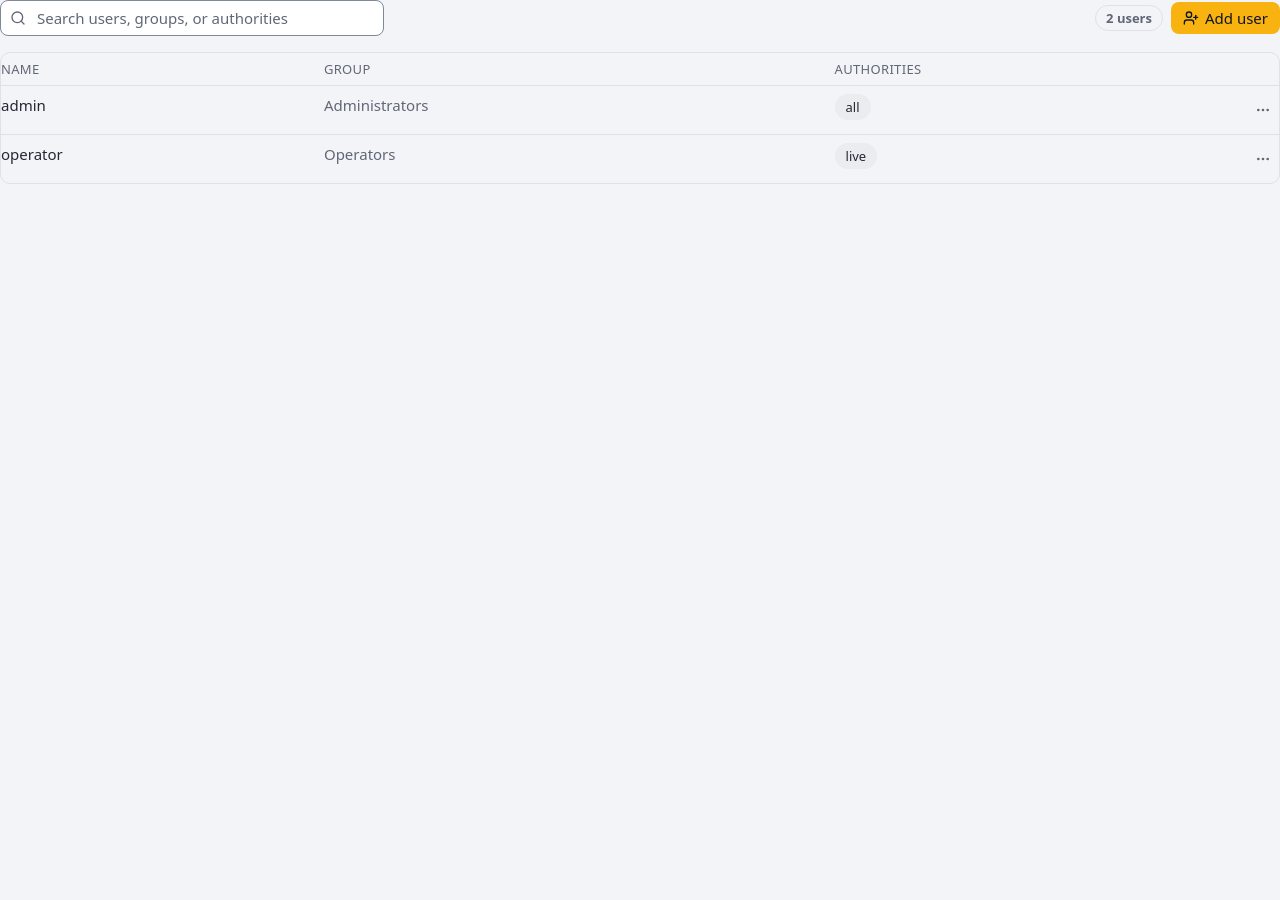
it: DeviceUserSection › previews then applies a per-user remove
Step 1. Press the mouse on the button named "actions: operator" → (1263, 159), box left=1247, top=143, right=1279, bottom=175
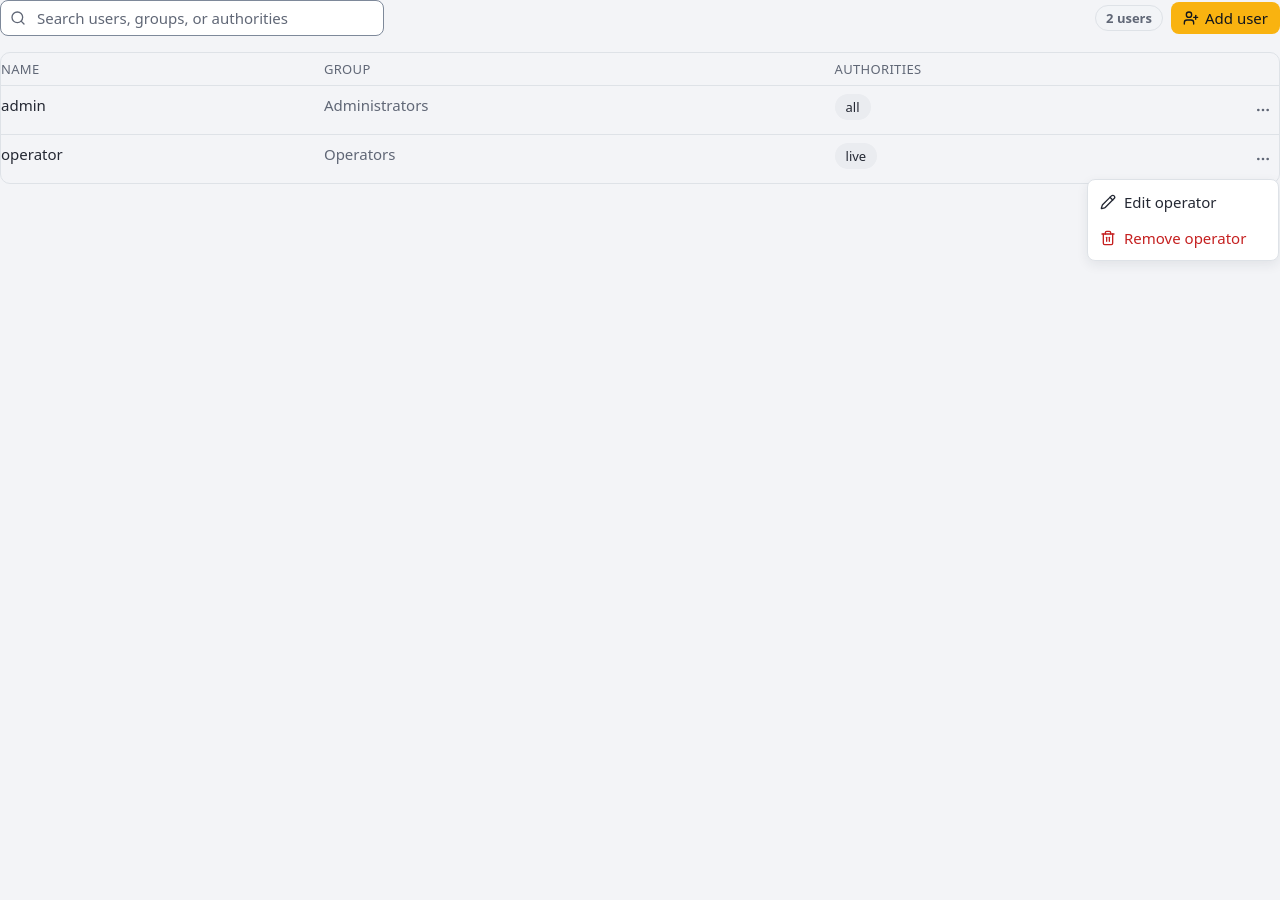
Step 2. Click the menu item "Remove operator" → (1173, 238), box left=1100, top=228, right=1246, bottom=248
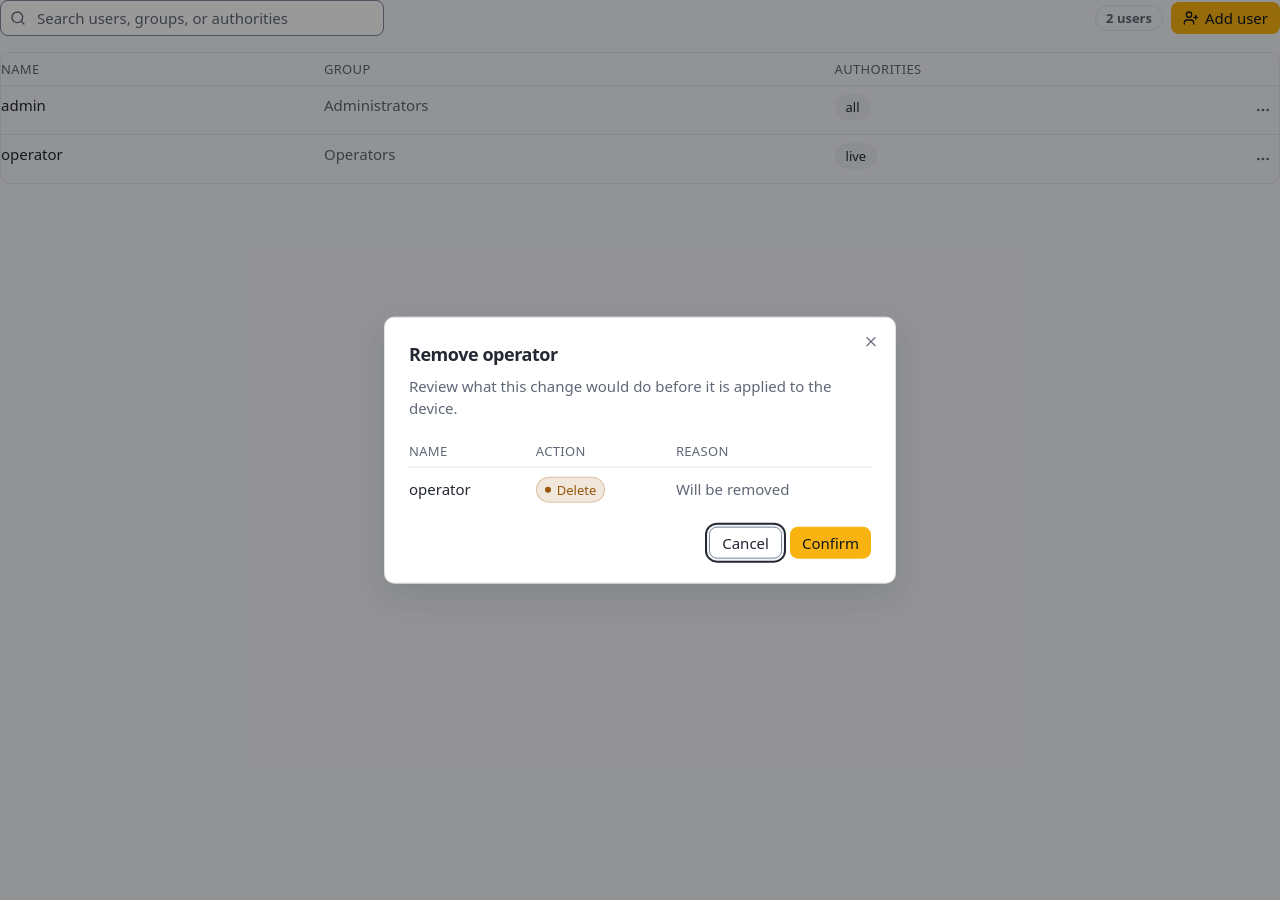
Expected: the text "Delete" is shown, left=536, top=476, right=605, bottom=502
Step 3. Click the button "Confirm" → (830, 542), box left=790, top=526, right=871, bottom=558
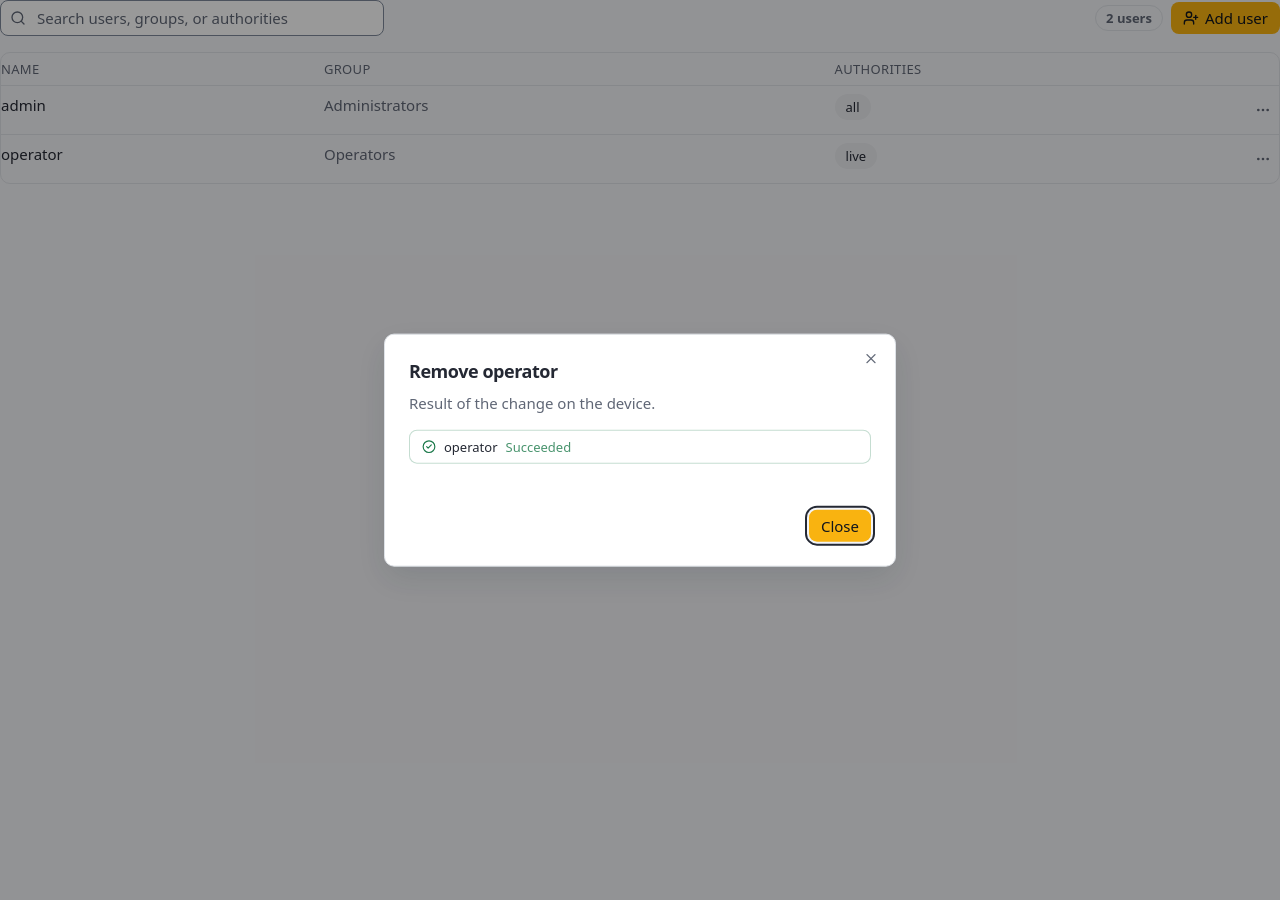
Expected: the text "Succeeded" is shown, left=506, top=436, right=571, bottom=456
